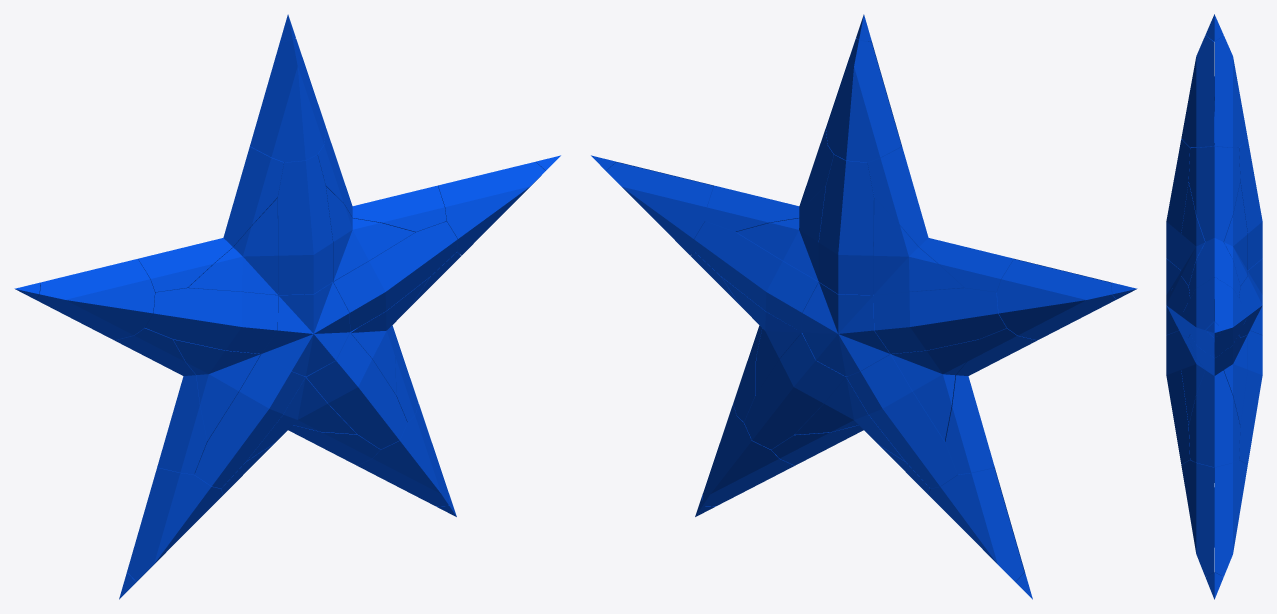
Rendered from star.fbx.
3 views of the same model, side by side, from view 1: azimuth 30°, elevation 25°; view 2: azimuth 150°, elevation 25°; view 3: azimuth 270°, elevation 25° (orthographic). The views are drawn at different scales.
Visible parts, largest first — view 1: Cube.012_cell.022, Cube.012_cell.025, Cube.012_cell.024, Cube.012_cell.020, Cube.012_cell.029, Cube.012_cell.023, Cube.012_cell.033, Cube.012_cell.030, Cube.012_cell.031, Cube.012_cell.016, Cube.012_cell.039, Cube.012_cell.019 (+9 smaller); view 2: Cube.012_cell.013, Cube.012_cell.014, Cube.012_cell.012, Cube.012_cell.005, Cube.012_cell.015, Cube.012_cell.001, Cube.012_cell.033, Cube.012_cell.010, Cube.012_cell.011, Cube.012_cell.004, Cube.012_cell.039, Cube.012_cell.002 (+9 smaller); view 3: Cube.012_cell.035, Cube.012_cell.037, Cube.012_cell.003, Cube.012_cell.027, Cube.012_cell.023, Cube.012_cell.001, Cube.012_cell.030, Cube.012_cell.010, Cube.012_cell.025, Cube.012_cell.014, Cube.012_cell.002, Cube.012_cell.019 (+11 smaller).
Boxes of the visible parts, bbox=[...] form: Cube.012_cell.022: bbox=[145, 288, 277, 353]; Cube.012_cell.025: bbox=[277, 154, 332, 294]; Cube.012_cell.024: bbox=[194, 354, 305, 488]; Cube.012_cell.020: bbox=[36, 259, 154, 340]; Cube.012_cell.029: bbox=[333, 221, 457, 331]; Cube.012_cell.023: bbox=[250, 38, 325, 162]; Cube.012_cell.033: bbox=[138, 146, 283, 292]; Cube.012_cell.030: bbox=[306, 333, 407, 449]; Cube.012_cell.031: bbox=[261, 282, 349, 376]; Cube.012_cell.016: bbox=[127, 467, 222, 581]; Cube.012_cell.039: bbox=[115, 328, 207, 474]; Cube.012_cell.019: bbox=[438, 162, 545, 255]; Cube.012_cell.013: bbox=[873, 288, 1006, 353]; Cube.012_cell.014: bbox=[818, 154, 874, 295]; Cube.012_cell.012: bbox=[846, 354, 957, 488]; Cube.012_cell.005: bbox=[997, 259, 1115, 340]; Cube.012_cell.015: bbox=[694, 221, 818, 331]; Cube.012_cell.001: bbox=[826, 38, 901, 162]; Cube.012_cell.033: bbox=[868, 146, 1013, 292]; Cube.012_cell.010: bbox=[744, 333, 845, 449]; Cube.012_cell.011: bbox=[802, 282, 890, 376]; Cube.012_cell.004: bbox=[929, 468, 1024, 581]; Cube.012_cell.039: bbox=[945, 328, 1036, 474]; Cube.012_cell.002: bbox=[606, 162, 713, 255]; Cube.012_cell.035: bbox=[1188, 145, 1240, 297]; Cube.012_cell.037: bbox=[1188, 334, 1240, 467]; Cube.012_cell.003: bbox=[1214, 460, 1247, 576]; Cube.012_cell.027: bbox=[1181, 460, 1214, 576]; Cube.012_cell.023: bbox=[1181, 35, 1214, 147]; Cube.012_cell.001: bbox=[1214, 35, 1247, 147]; Cube.012_cell.030: bbox=[1166, 331, 1190, 464]; Cube.012_cell.010: bbox=[1239, 331, 1262, 464]; Cube.012_cell.025: bbox=[1166, 139, 1193, 270]; Cube.012_cell.014: bbox=[1238, 139, 1262, 270]; Cube.012_cell.002: bbox=[1214, 277, 1247, 357]; Cube.012_cell.019: bbox=[1181, 277, 1214, 358].
Bounding box in the file's own units: 321 × 306 × 52.43.
